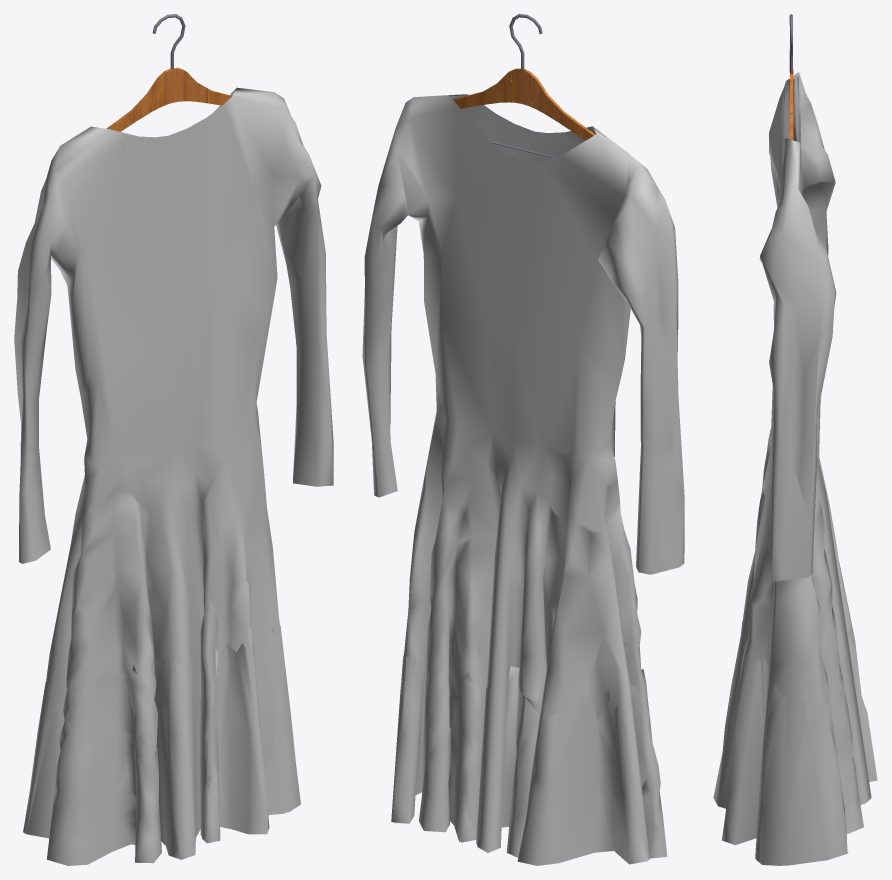
Rendered from dress-1.FBX.
The picture shows the model from 3 angles, left to right: view 1: azimuth 30°, elevation 25°; view 2: azimuth 150°, elevation 25°; view 3: azimuth 270°, elevation 25°; orthographic projection. The views are drawn at different scales.
Parts seen in each view (by area): view 1: dress-1_LOD0, _Hanger-1_LOD0; view 2: dress-1_LOD0, _Hanger-1_LOD0; view 3: dress-1_LOD0, _Hanger-1_LOD0.
Boxes of the visible parts, left/top/right/bottom form: dress-1_LOD0: left=14, top=87, right=333, bottom=865; _Hanger-1_LOD0: left=107, top=14, right=231, bottom=131; dress-1_LOD0: left=362, top=94, right=684, bottom=865; _Hanger-1_LOD0: left=452, top=14, right=595, bottom=158; dress-1_LOD0: left=713, top=72, right=877, bottom=865; _Hanger-1_LOD0: left=789, top=14, right=793, bottom=140.
Size of what is drawn, in the model's own units: 44.5 by 20.84 by 112.
